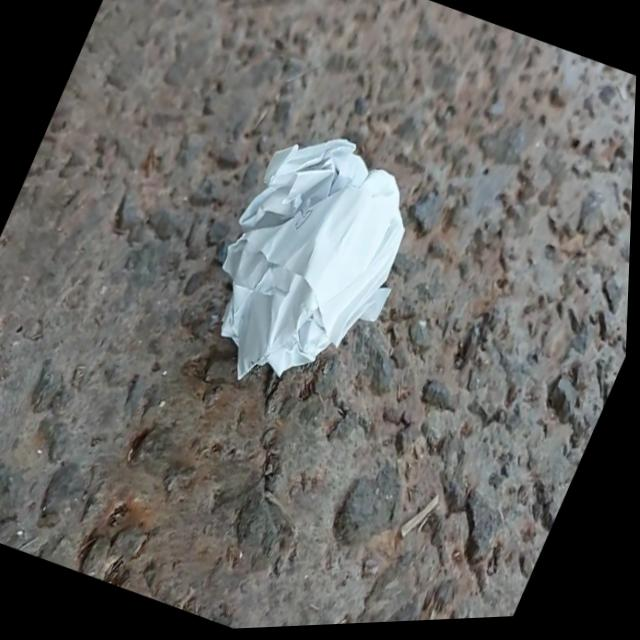paper: (222, 139, 403, 377)
